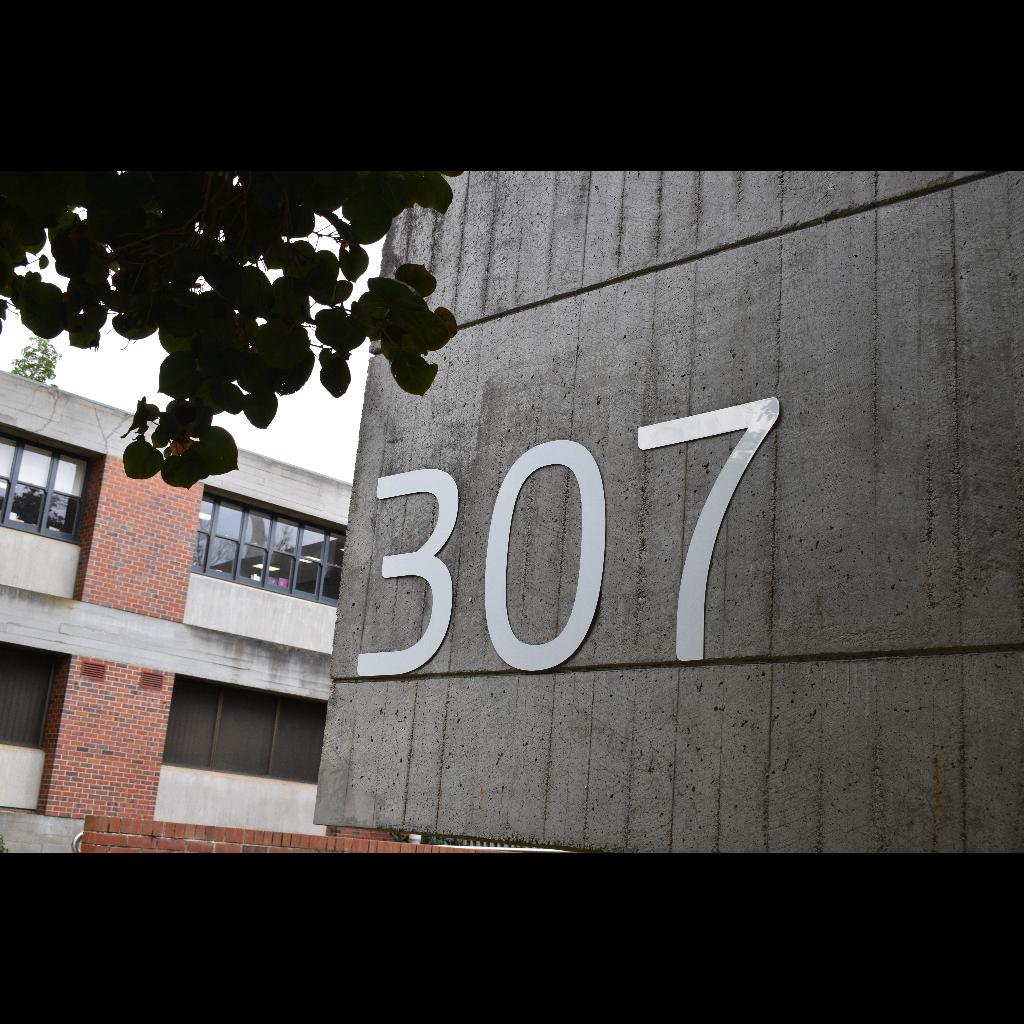BuildingCodes: (350, 391, 788, 681)
